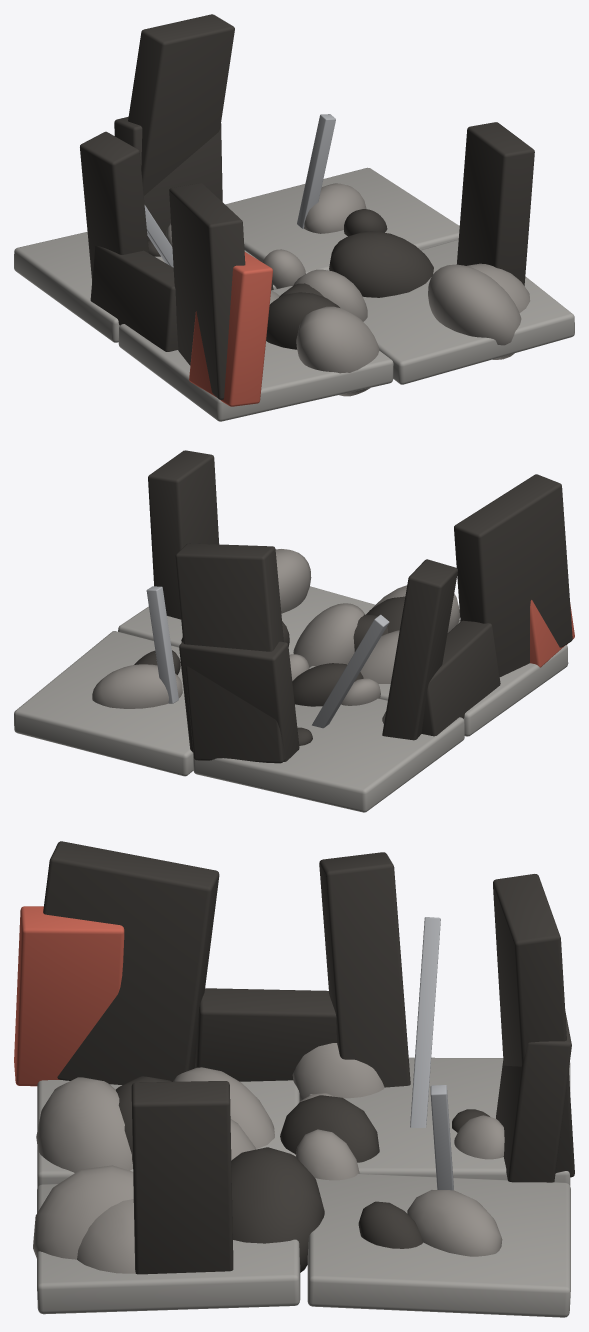
Rendered from building_ruin4x4.glb.
3 views of the same model, one above another, from view 1: azimuth 30°, elevation 25°; view 2: azimuth 150°, elevation 25°; view 3: azimuth 270°, elevation 25° (orthographic). The views are drawn at different scales.
Parts seen in each view (by area): view 1: Cube.010, Cube.001, Cube.005, Cube.009, Cube.003, Cube, Cube.008, Cube.004, Cube.007, Sphere.006, Cube.002, Sphere.008 (+10 smaller); view 2: Cube.010, Cube.005, Cube.002, Cube.003, Cube.008, Cube.009, Cube.006, Cube.007, Cube, Sphere.007, Cube.001, Sphere.014 (+9 smaller); view 3: Cube.003, Cube.005, Cube.009, Cube.008, Cube.004, Cube.001, Cube.010, Cube.007, Cube.002, Cube.006, Sphere.008, Sphere.009 (+13 smaller).
Part boxes in pixels (x1=…): Cube.010: x1=128, y1=14, x2=234, y2=195; Cube.001: x1=363, y1=239, x2=574, y2=384; Cube.005: x1=169, y1=183, x2=245, y2=399; Cube.009: x1=456, y1=122, x2=534, y2=285; Cube.003: x1=225, y1=167, x2=459, y2=273; Cube: x1=118, y1=286, x2=393, y2=421; Cube.008: x1=80, y1=131, x2=148, y2=281; Cube.004: x1=189, y1=252, x2=272, y2=406; Cube.007: x1=90, y1=245, x2=178, y2=351; Sphere.006: x1=428, y1=264, x2=521, y2=359; Cube.002: x1=14, y1=231, x2=276, y2=342; Sphere.008: x1=329, y1=231, x2=433, y2=297; Cube.010: x1=175, y1=543, x2=285, y2=763; Cube.005: x1=454, y1=474, x2=572, y2=676; Cube.002: x1=193, y1=698, x2=464, y2=812; Cube.003: x1=14, y1=631, x2=193, y2=776; Cube.008: x1=382, y1=559, x2=457, y2=740; Cube.009: x1=148, y1=450, x2=219, y2=619; Cube.006: x1=179, y1=641, x2=299, y2=761; Cube.007: x1=421, y1=620, x2=500, y2=736; Cube: x1=309, y1=620, x2=568, y2=736; Sphere.007: x1=293, y1=603, x2=364, y2=667; Cube.001: x1=118, y1=586, x2=375, y2=654; Sphere.014: x1=92, y1=664, x2=182, y2=708; Cube.003: x1=307, y1=1173, x2=570, y2=1317; Cube.005: x1=43, y1=841, x2=219, y2=1084; Cube.009: x1=131, y1=1081, x2=233, y2=1274; Cube.008: x1=319, y1=852, x2=410, y2=1087; Cube.004: x1=14, y1=906, x2=124, y2=1086; Cube.001: x1=37, y1=1184, x2=300, y2=1314; Cube.010: x1=493, y1=874, x2=574, y2=1177; Cube.007: x1=195, y1=988, x2=336, y2=1081; Cube.002: x1=308, y1=1057, x2=570, y2=1185; Cube.006: x1=496, y1=1011, x2=571, y2=1182; Sphere.008: x1=231, y1=1147, x2=324, y2=1272; Sphere.009: x1=36, y1=1077, x2=132, y2=1172.
Bounding box in the file's own units: 4 × 2.6 × 4.15.
